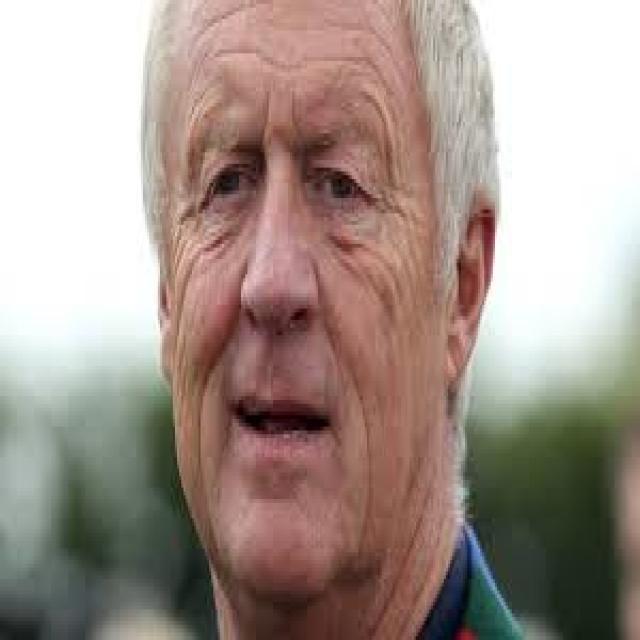normal_face: (158, 0, 471, 629)
